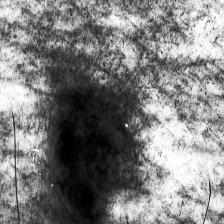Benign Marking or Mole: (43, 93, 133, 224)
